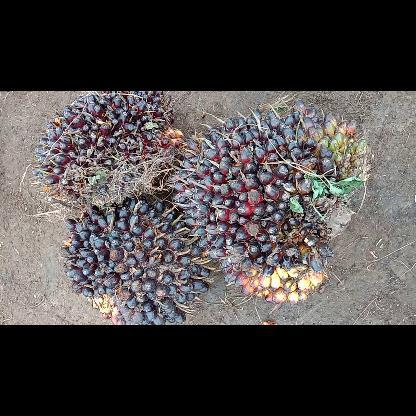TBS mentah: (166, 98, 372, 306), (57, 194, 214, 324), (29, 90, 185, 214)
